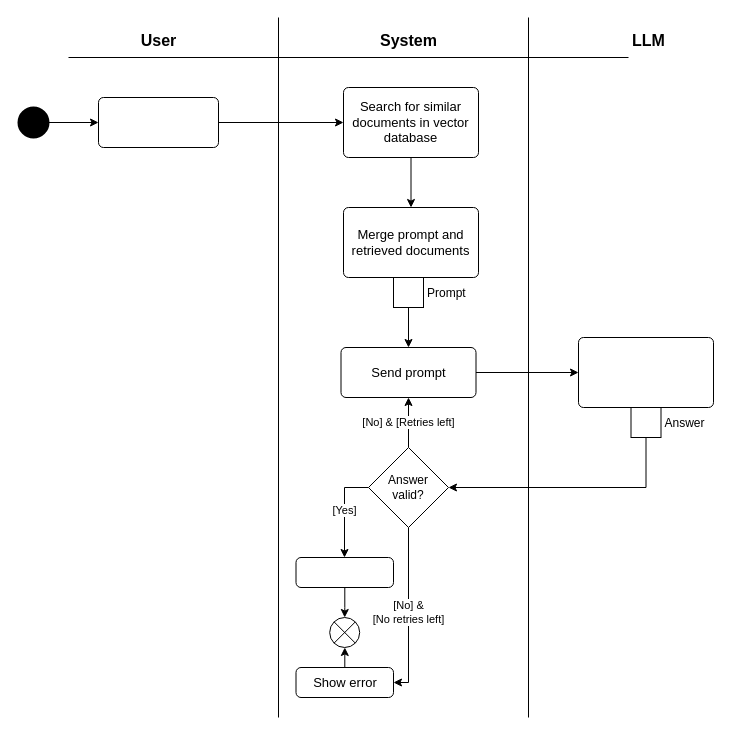
Some shapes in this 731 by 736 pixel diagram are drawn without their labels. The centre of each missing label's shape, as x and y in pixels:
Enter prompt and send: the point at 158,122
Generate answer: the point at 646,372
Show answer: the point at 344,572
